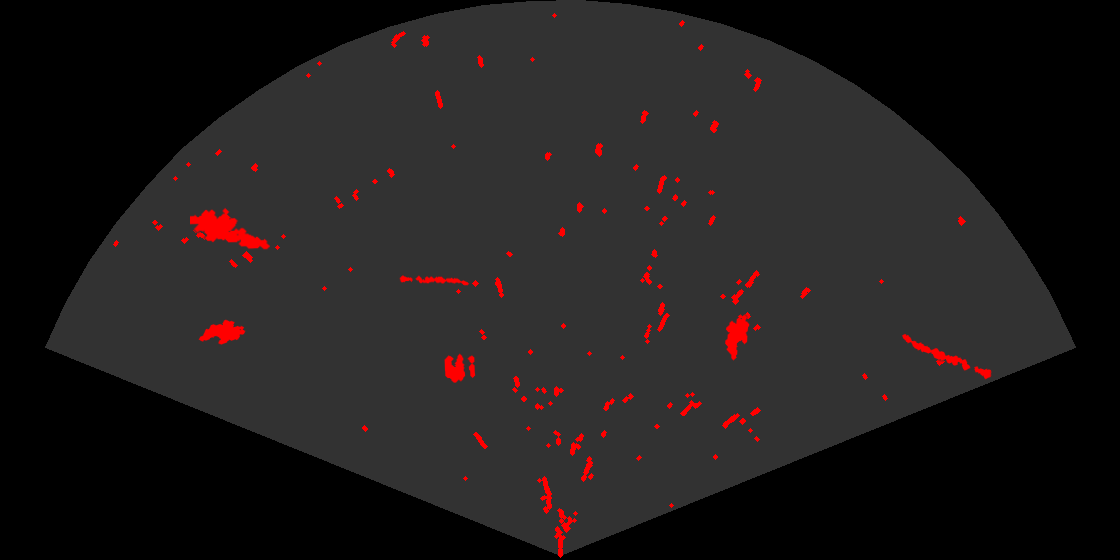AUV: (197, 318, 247, 346), (724, 313, 751, 362)
ball: (443, 352, 477, 384)
chain: (901, 332, 994, 381), (399, 274, 470, 287)
frogman: (190, 206, 270, 251)
